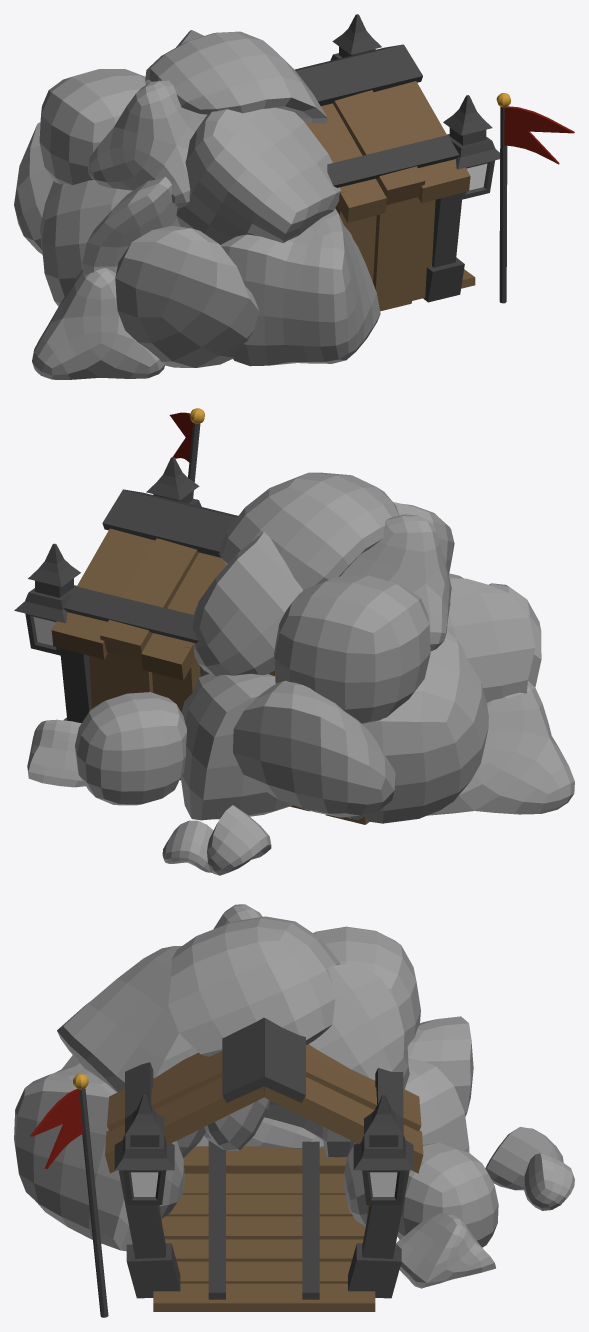
The model's file is mine_v1.fbx.
The picture shows the model from 3 angles, top to bottom: view 1: azimuth 30°, elevation 25°; view 2: azimuth 150°, elevation 25°; view 3: azimuth 270°, elevation 25°; orthographic projection. The views are drawn at different scales.
Parts seen in each view (by area): view 1: rock.002, rock.005, rock.008, rock.011, rock.015, rock.010, rock.006, rock.009, rock.004, Cube.014, Cube.003, Cube.017 (+10 smaller); view 2: rock.006, rock.003, rock.009, rock.011, rock.007, rock.001, rock.015, rock, rock.004, rock.010, Cube.014, Cube.003 (+14 smaller); view 3: rock.011, rock.005, rock.002, Cube.017, Cube.016, rock.001, Cube.003, rock.007, Cube.014, Cube.006, Cube.011, rock.012 (+20 smaller).
Boxes of the visible parts, x1,y1,x2,y2 form: rock.002: [176, 107, 340, 244]; rock.005: [220, 208, 380, 366]; rock.008: [115, 226, 259, 367]; rock.011: [145, 31, 327, 123]; rock.015: [32, 268, 165, 379]; rock.010: [88, 80, 206, 207]; rock.006: [39, 69, 145, 184]; rock.009: [40, 180, 132, 306]; rock.004: [82, 176, 180, 276]; Cube.014: [295, 44, 422, 105]; Cube.003: [374, 81, 470, 203]; Cube.017: [330, 14, 499, 199]; rock.006: [274, 575, 430, 723]; rock.003: [233, 680, 395, 817]; rock.009: [347, 631, 488, 823]; rock.011: [219, 472, 399, 589]; rock.007: [75, 692, 186, 805]; rock.001: [192, 531, 302, 676]; rock.015: [427, 681, 574, 815]; rock: [181, 673, 292, 820]; rock.004: [447, 578, 535, 702]; rock.010: [341, 514, 451, 651]; Cube.014: [102, 489, 237, 557]; Cube.003: [51, 528, 154, 659]; rock.011: [168, 916, 340, 1056]; rock.005: [14, 1055, 184, 1251]; rock.002: [57, 946, 198, 1092]; Cube.017: [114, 1094, 413, 1204]; Cube.016: [118, 1170, 409, 1298]; rock.001: [309, 962, 409, 1088]; Cube.003: [105, 1077, 423, 1173]; rock.007: [397, 1142, 498, 1247]; Cube.014: [222, 1017, 305, 1102]; Cube.006: [208, 1140, 319, 1299]; Cube.011: [153, 1283, 375, 1311]; rock.012: [395, 1213, 495, 1288].
Size of the model in its own units: 641 by 368 by 630.
